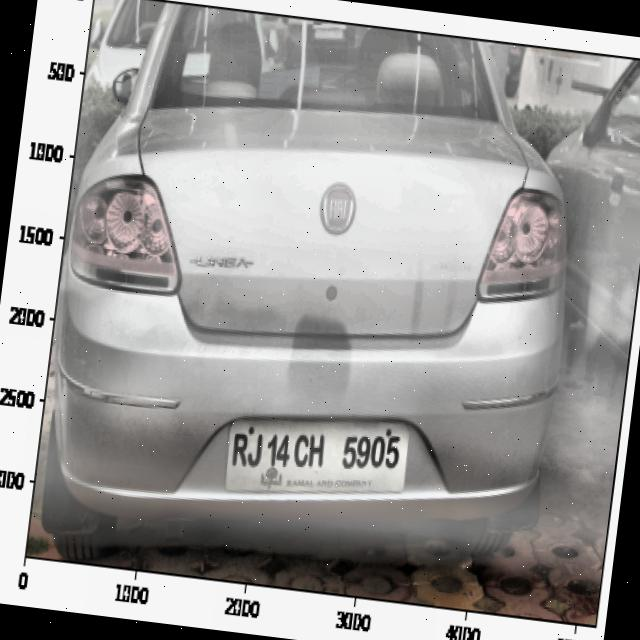license_plate: (223, 408, 406, 496)
